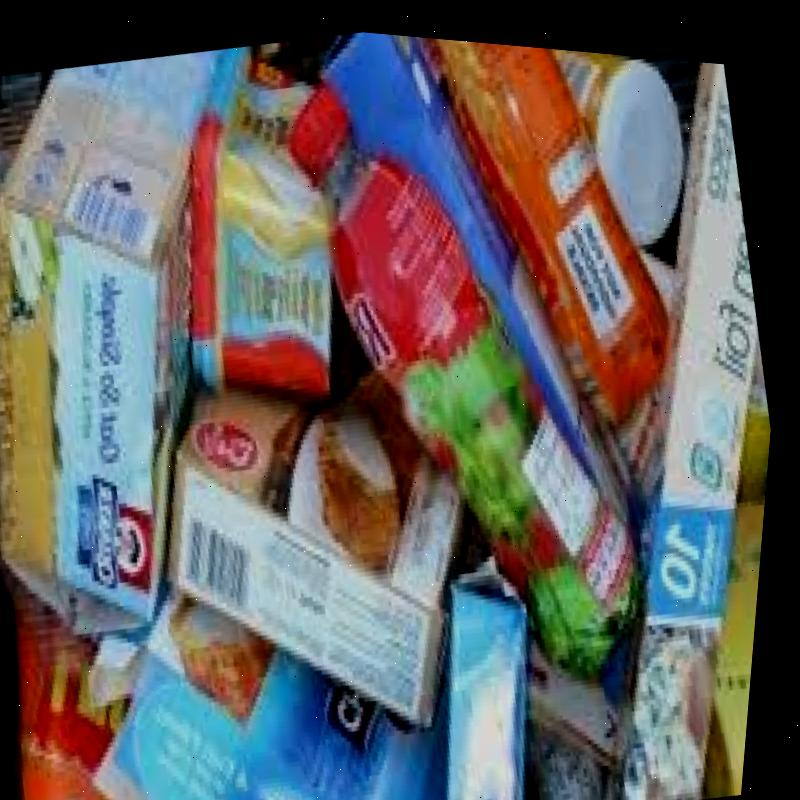botella: (286, 63, 643, 645), (418, 29, 691, 423)
